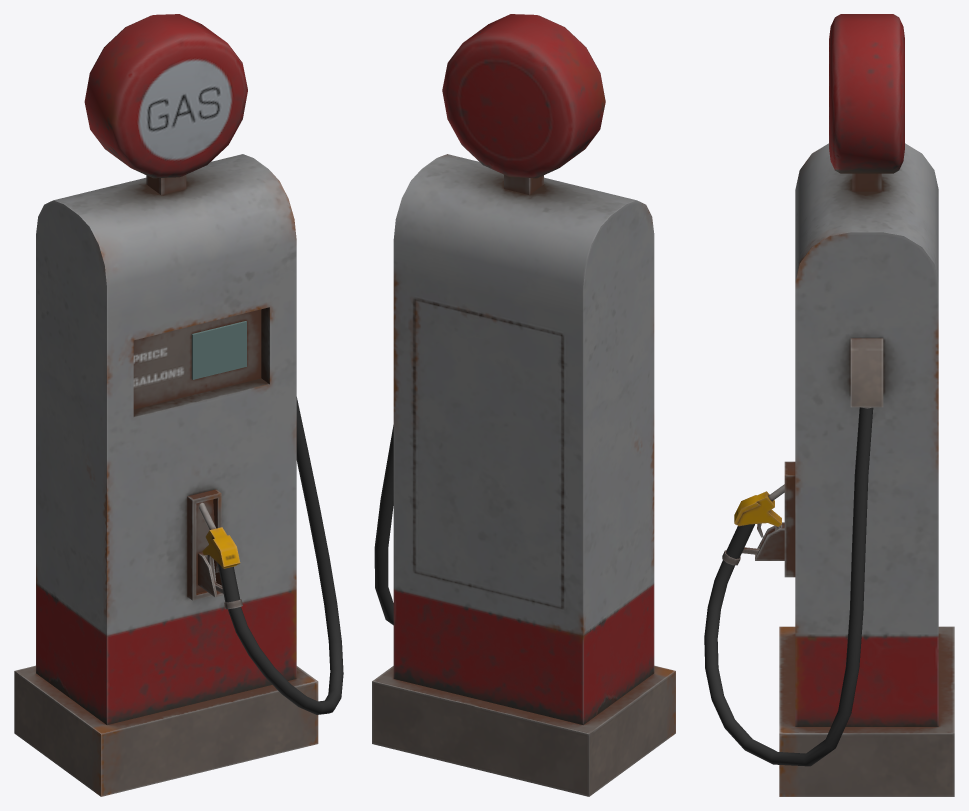
Rendered from SM_Props_GasPump_01.glb.
The picture shows the model from 3 angles, left to right: view 1: azimuth 30°, elevation 25°; view 2: azimuth 150°, elevation 25°; view 3: azimuth 270°, elevation 25°; orthographic projection.
Parts seen in each view (by area): view 1: SM_Props_GasPump_01; view 2: SM_Props_GasPump_01; view 3: SM_Props_GasPump_01.
Part boxes in pixels (<box>): SM_Props_GasPump_01: <box>14,14,343,796</box>; SM_Props_GasPump_01: <box>372,14,675,796</box>; SM_Props_GasPump_01: <box>704,14,954,796</box>.
Size of the model in its own units: 0.9063 by 2.31 by 0.7267.
1 material, 1 textured.
